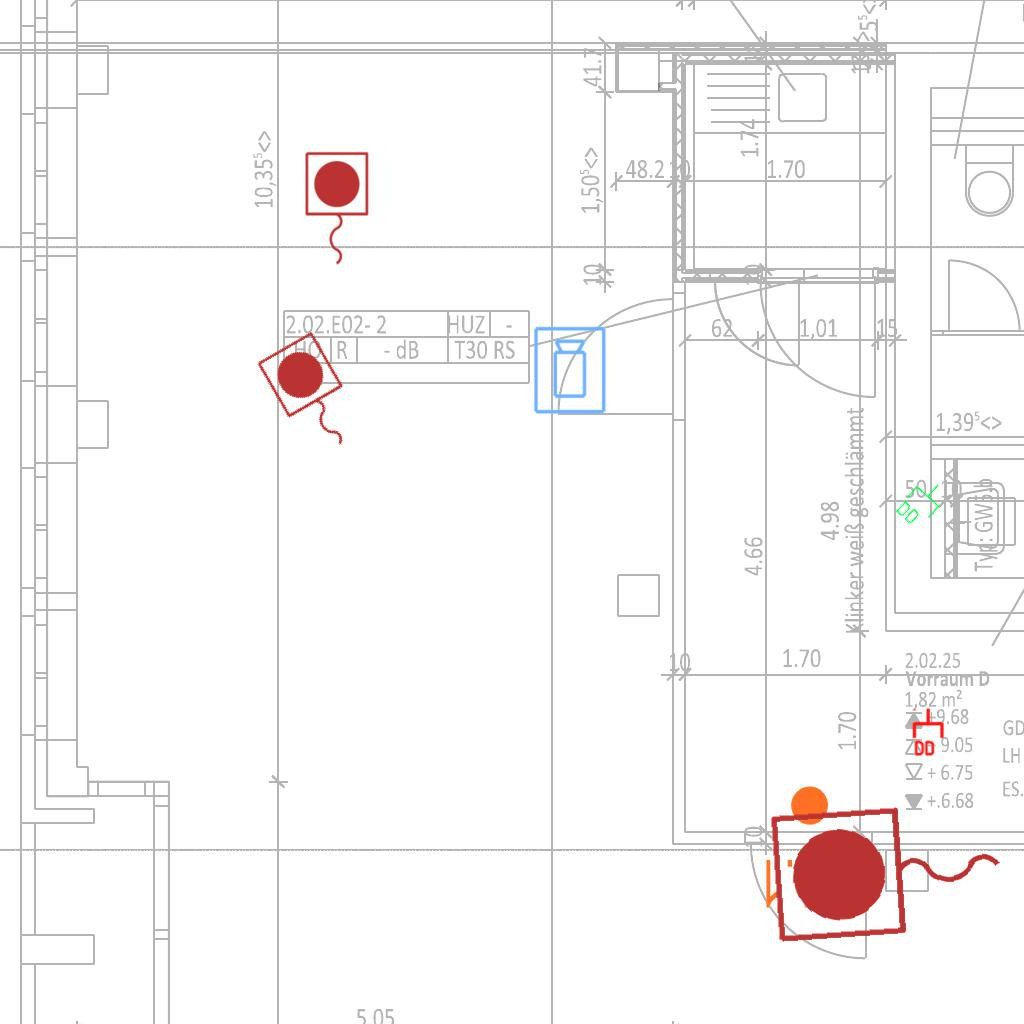Datenanschluss_zweifach: (891, 472, 952, 534), (912, 707, 946, 758)
Downlight_LED_Einbauleuchten_Flur: (760, 783, 853, 911)
KFO_Kamera_mit_Festobjektiv: (532, 325, 609, 416)
Zugtaster: (762, 792, 1016, 954), (250, 326, 374, 468), (300, 148, 372, 270)
